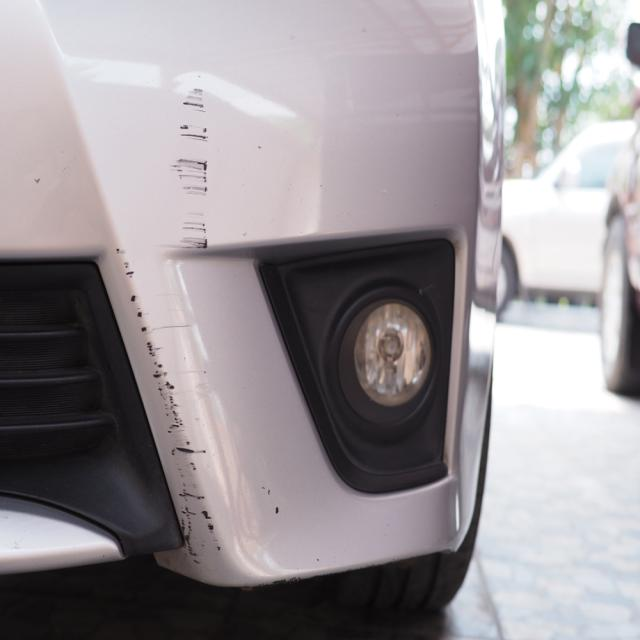scratch: (115, 248, 223, 561), (177, 79, 210, 253)
